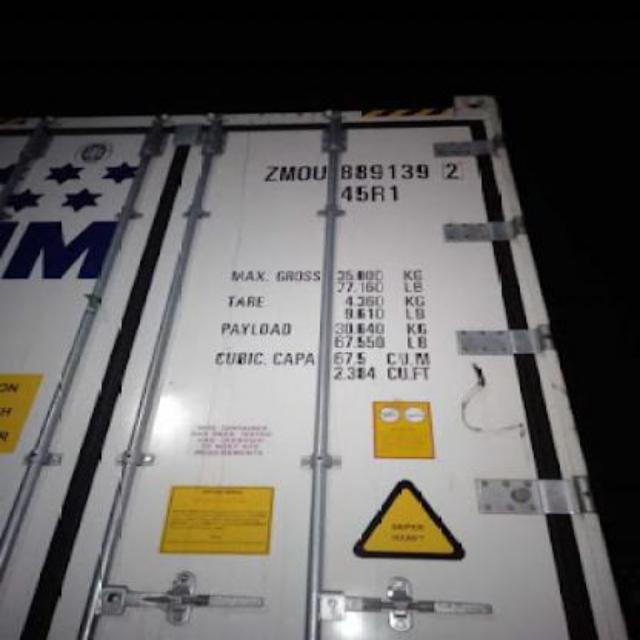1: (384, 154, 400, 182)
2: (440, 156, 464, 182)
3: (398, 158, 414, 186)
8: (336, 152, 352, 182), (350, 159, 368, 183)
9: (412, 150, 434, 190), (368, 152, 384, 182)
M: (279, 158, 295, 185)
O: (296, 158, 312, 186)
U: (312, 154, 326, 188)
Z: (260, 152, 278, 184)
